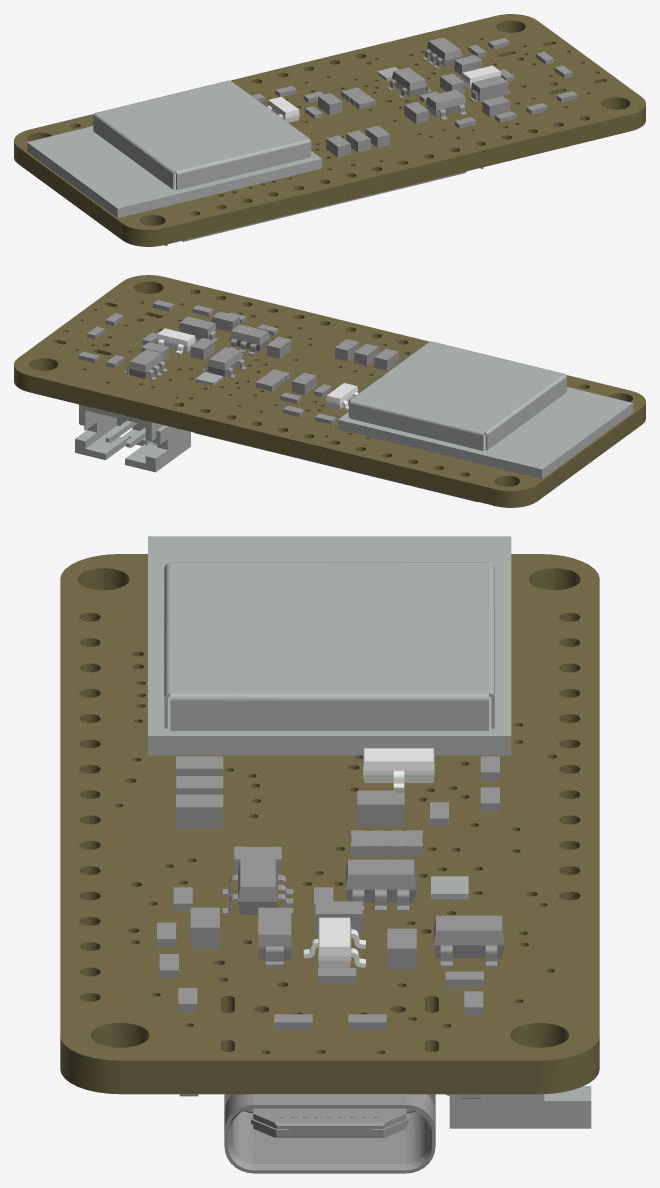
Rendered from adafruit-feather-esp32-s3-tft-5483.glb.
3 renders of one model, top to bottom at view 1: azimuth 30°, elevation 25°; view 2: azimuth 150°, elevation 25°; view 3: azimuth 270°, elevation 25°, orthographic. The views are drawn at different scales.
Visible parts, largest first — view 1: PCB, CAD_GEOMETRY_UNIDENTIFIED, U2, U5, U3, D4, DISP1, Q1, R3, Q3, C1, C12 (+6 smaller); view 2: PCB, CAD_GEOMETRY_UNIDENTIFIED, U2, U3, U5, Q3, D4, Q1, R3, C6, C9, C7 (+5 smaller); view 3: PCB, CAD_GEOMETRY_UNIDENTIFIED, X3, U5, U3, U2, Q1, Q3, D4, R3, C12, C2 (+6 smaller).
Boxes of the visible parts, <box> form: PCB: <box>14,14,645,246</box>; CAD_GEOMETRY_UNIDENTIFIED: <box>27,71,389,217</box>; U2: <box>425,89,467,120</box>; U5: <box>387,67,431,98</box>; U3: <box>422,37,463,68</box>; D4: <box>469,75,510,102</box>; DISP1: <box>165,167,483,245</box>; Q1: <box>267,96,299,122</box>; R3: <box>341,87,375,109</box>; Q3: <box>461,65,500,89</box>; C1: <box>482,96,509,116</box>; C12: <box>318,93,342,115</box>; PCB: <box>14,275,645,507</box>; CAD_GEOMETRY_UNIDENTIFIED: <box>75,341,633,478</box>; U2: <box>229,324,270,355</box>; U3: <box>123,349,168,380</box>; U5: <box>202,347,247,378</box>; Q3: <box>156,328,195,354</box>; D4: <box>179,316,218,341</box>; Q1: <box>326,383,358,410</box>; R3: <box>255,369,289,391</box>; C6: <box>190,338,215,359</box>; C9: <box>267,336,291,358</box>; C7: <box>374,348,398,370</box>; PCB: <box>60,554,599,1094</box>; CAD_GEOMETRY_UNIDENTIFIED: <box>148,536,591,1128</box>; X3: <box>224,1094,435,1173</box>; U5: <box>345,859,416,912</box>; U3: <box>433,915,504,967</box>; U2: <box>222,859,293,914</box>; Q1: <box>363,748,434,791</box>; Q3: <box>303,917,365,967</box>; D4: <box>258,907,291,967</box>; R3: <box>351,830,422,856</box>; C12: <box>357,792,404,826</box>; C2: <box>176,794,223,828</box>.
Bounding box in the file's own units: 0.0519 × 0.00892 × 0.0229.
